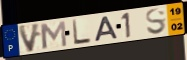1: (120, 11, 132, 40)
A: (93, 15, 120, 43)
L: (71, 18, 93, 46)
M: (38, 20, 68, 50)
S: (144, 7, 168, 36)
V: (16, 22, 42, 54)
